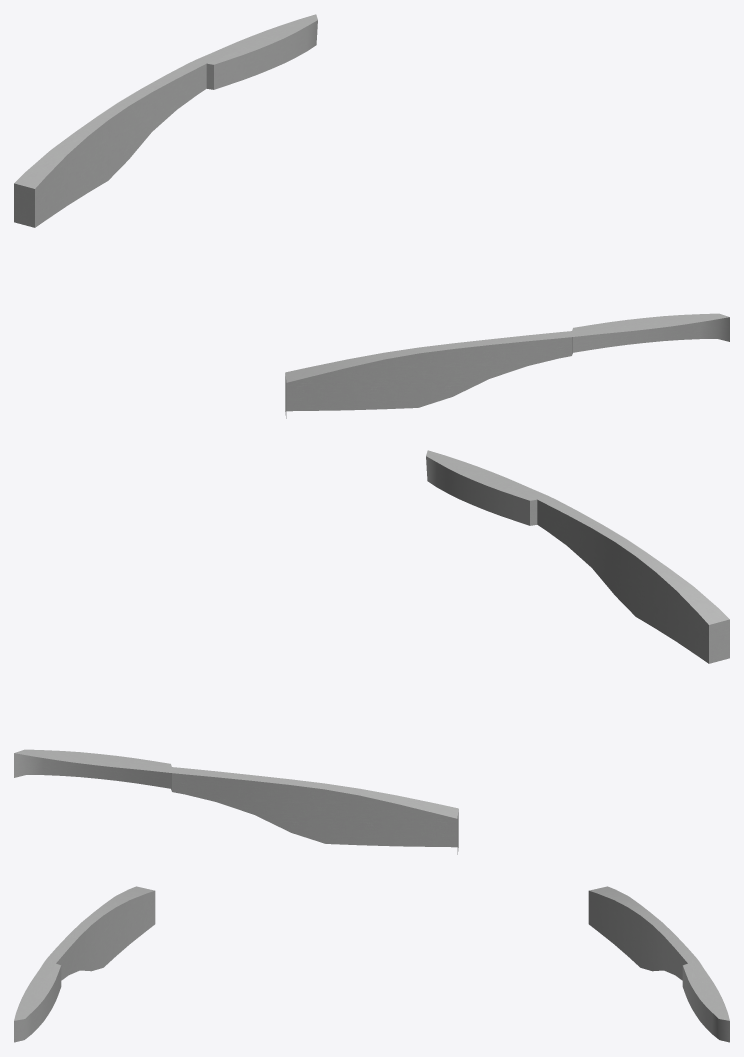
File: p6_hijacked_back_vents_lod1.glb
3 renders of one model, top to bottom at view 1: azimuth 30°, elevation 25°; view 2: azimuth 150°, elevation 25°; view 3: azimuth 270°, elevation 25°, orthographic. The views are drawn at different scales.
Parts seen in each view (by area): view 1: surf0; view 2: surf0; view 3: surf0.
Part boxes in pixels (box(x1,y1,x2,y2)): surf0: box(14, 14, 729, 418); surf0: box(14, 450, 729, 854); surf0: box(14, 886, 729, 1042).
Size of the model in its own units: 587 by 99.8 by 1128.
